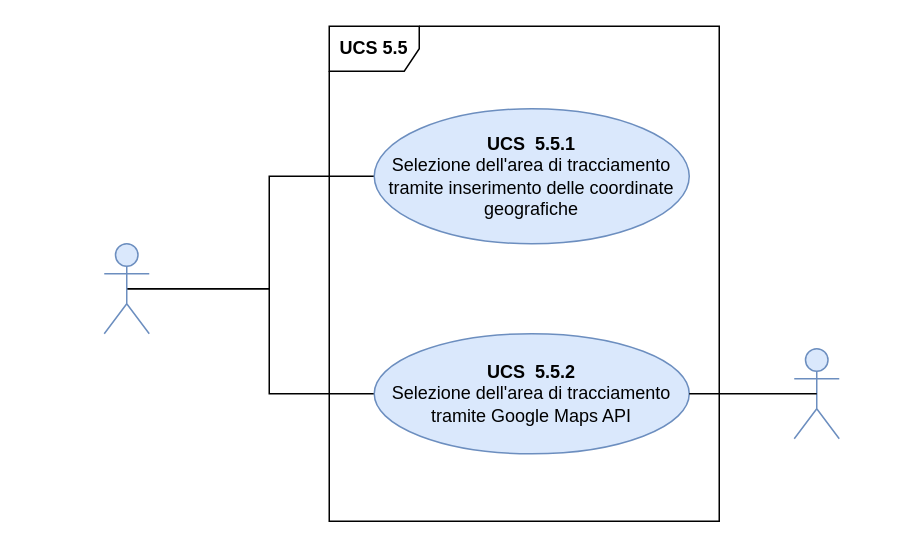
Some shapes in this 917 by 548 pixel diagram are drawn without their labels. Here are the shapes that lost their labels. From the top down, the box of each, then its label:
(103, 242, 149, 334): Amministratore gestore
(793, 347, 839, 439): Google Maps API
